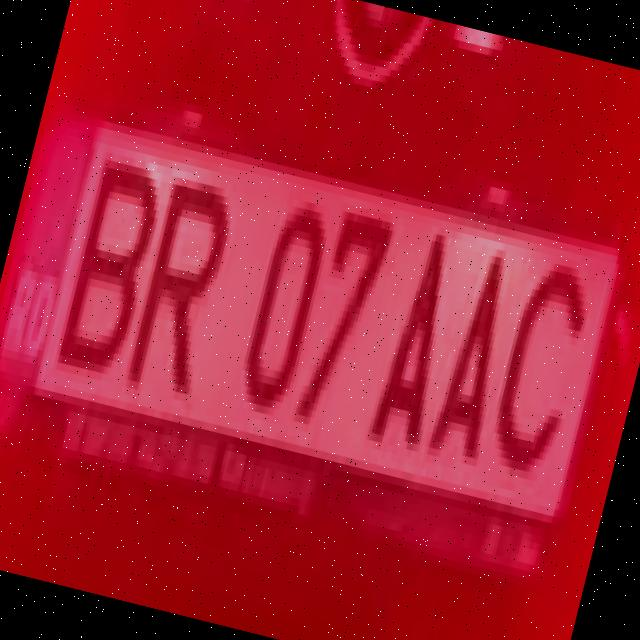EU: (0, 101, 633, 561)
Romanie: (0, 108, 102, 400)
